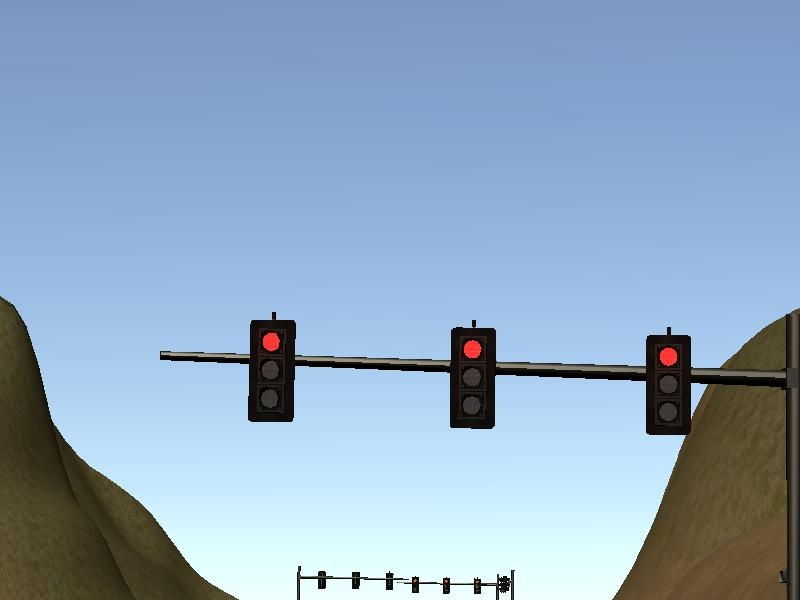red: (643, 335, 692, 436), (450, 329, 497, 431), (250, 320, 295, 424), (475, 577, 482, 596), (412, 576, 419, 594), (444, 578, 451, 594)
